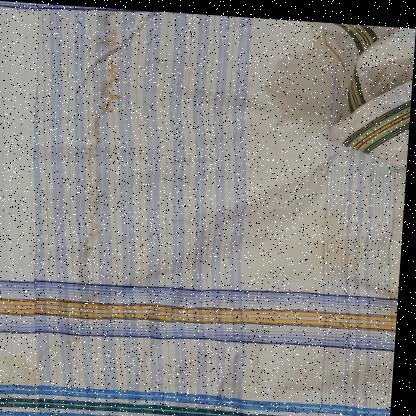spot: (80, 119, 110, 294), (35, 293, 98, 373), (312, 196, 368, 271), (94, 5, 122, 119), (0, 349, 47, 400)
